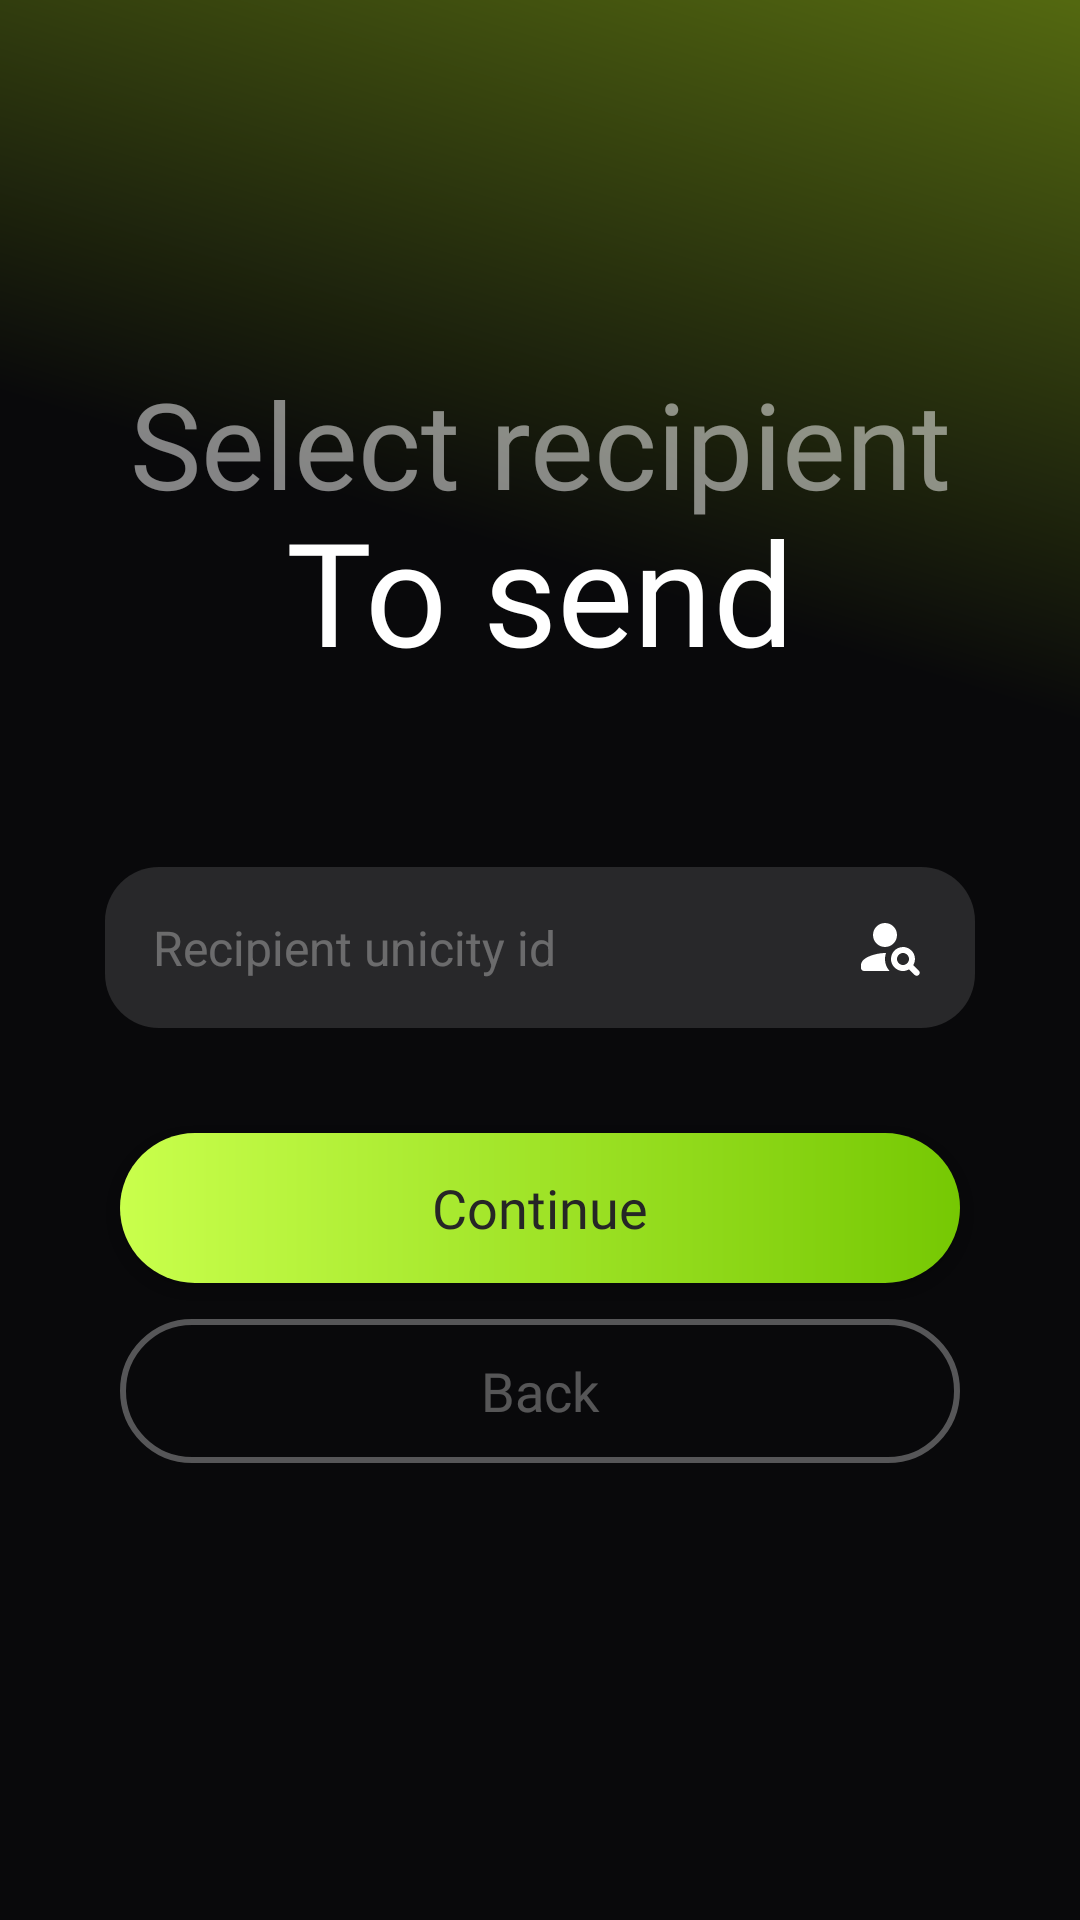

Point at icon controls on the screen. Image size 1080 x 1920, points as [x,y].
Open contacts: [890,949]
